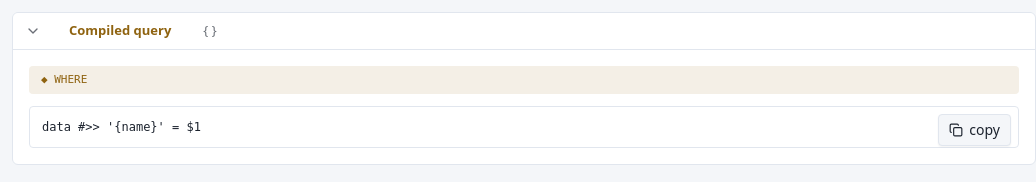
Scenario: QueryOutputPanel › collapses: toggling the header hides the primary output
Expected: the text "data #>> '{name}' = $1" is shown, [29, 106, 1019, 148]
Click the button named "Compiled query": x=33, y=31 [13, 13, 53, 48]
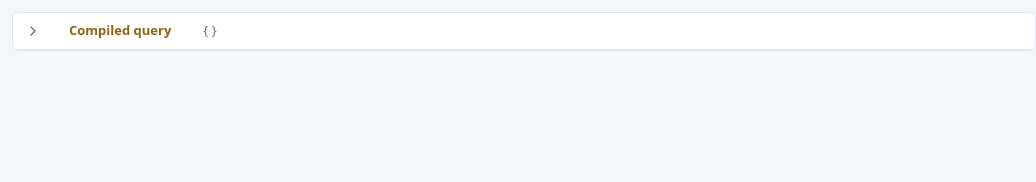
Expected: the button named "Compiled query" is collapsed, [13, 13, 53, 48]
Expected: the text "data #>> '{name}' = $1" is gone
